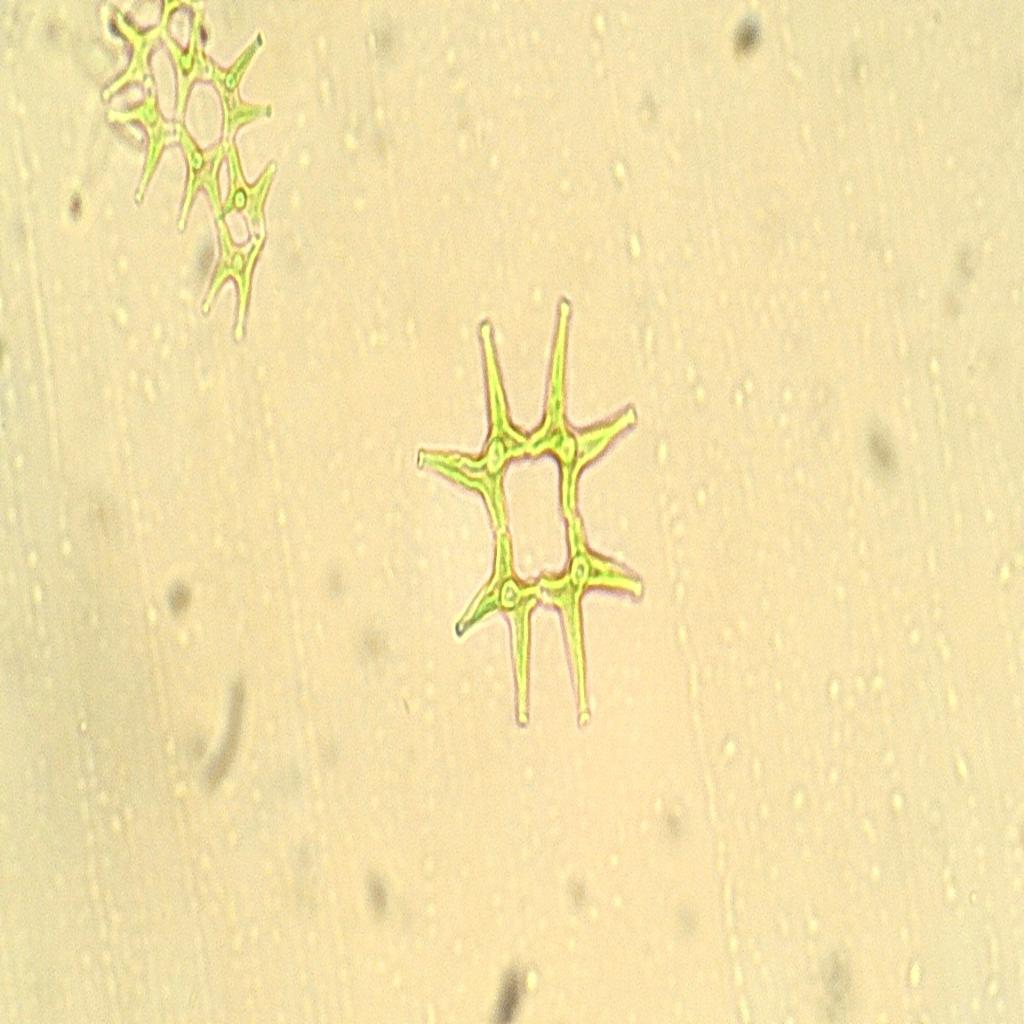Pediastrum_10: (403, 286, 684, 744)
